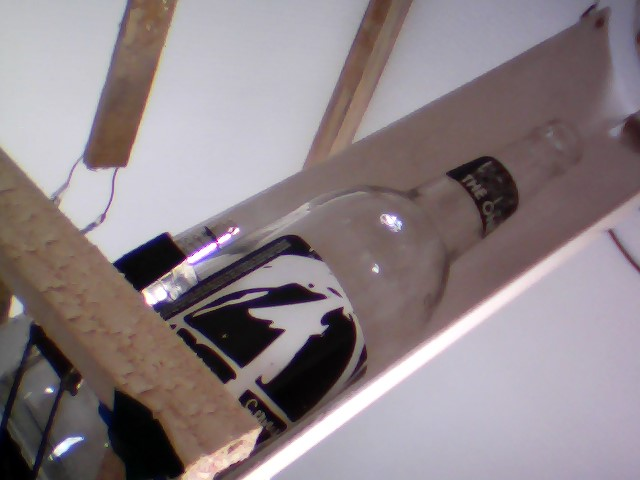vidrio: (181, 110, 594, 446)
